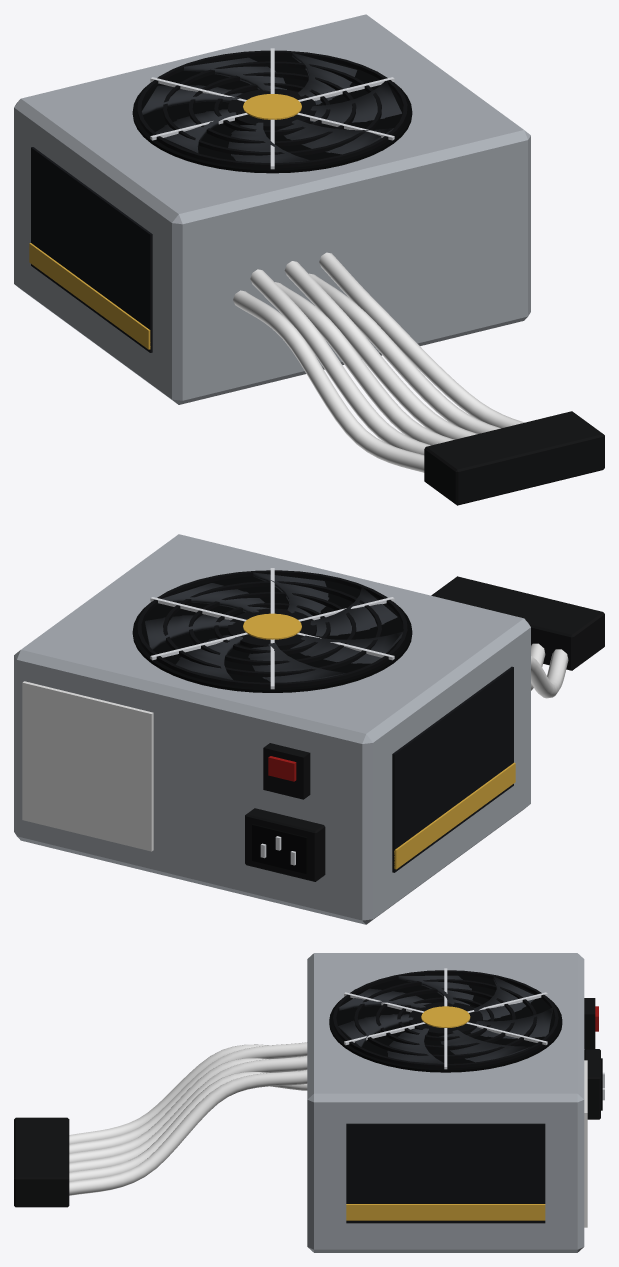
File: hw_psu_650w_gold.glb
3 renders of one model, top to bottom at view 1: azimuth 30°, elevation 25°; view 2: azimuth 150°, elevation 25°; view 3: azimuth 270°, elevation 25°, orthographic. The views are drawn at different scales.
Visible parts, largest first — view 1: Body, Rotor_Y_0; view 2: Body, Rotor_Y_0; view 3: Body, Rotor_Y_0.
Boxes of the visible parts, box(x1,y1,x2,y2) form: Body: box(14, 14, 604, 505); Rotor_Y_0: box(142, 53, 401, 162); Body: box(14, 534, 604, 924); Rotor_Y_0: box(145, 572, 402, 682); Body: box(14, 953, 604, 1252); Rotor_Y_0: box(338, 975, 552, 1063).
Bounding box in the file's own units: 0.1278 × 0.0662 × 0.2135.
